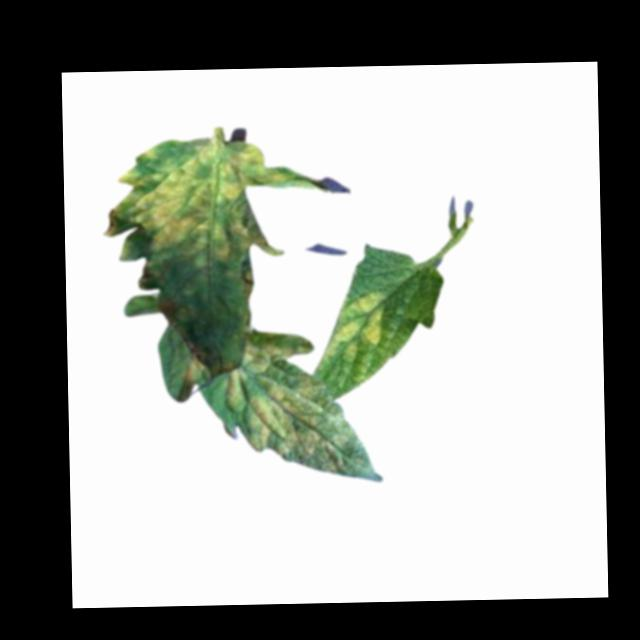Leaf_Mold: (99, 138, 285, 268), (226, 368, 347, 463), (324, 290, 384, 361), (242, 337, 311, 374), (183, 358, 203, 385)
